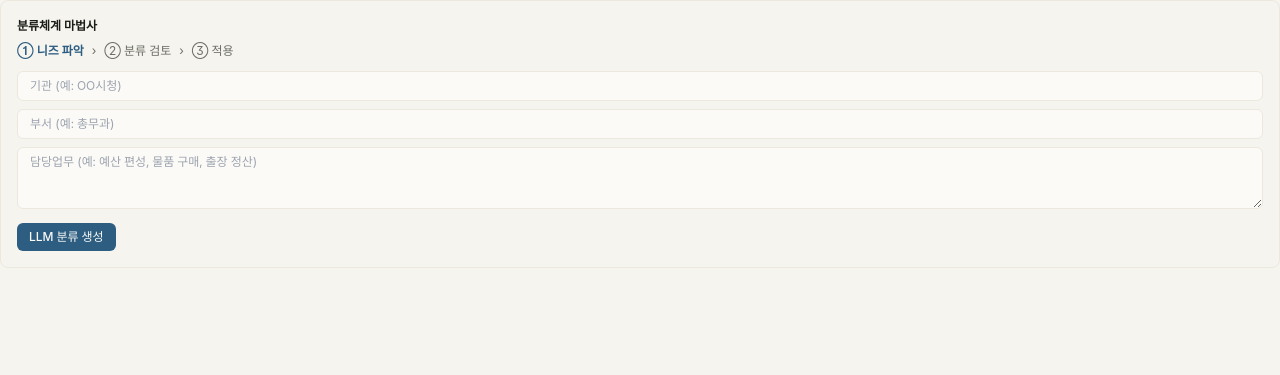
Test: TaxonomyWizard — 3단계 진행 › truncated 응답이면 일부 근거 안내 문구를 보인다 (L3)
In the field with placeholder "기관 (예: OO시청)": (640, 86) [17,71,1263,101], type "OO시청"
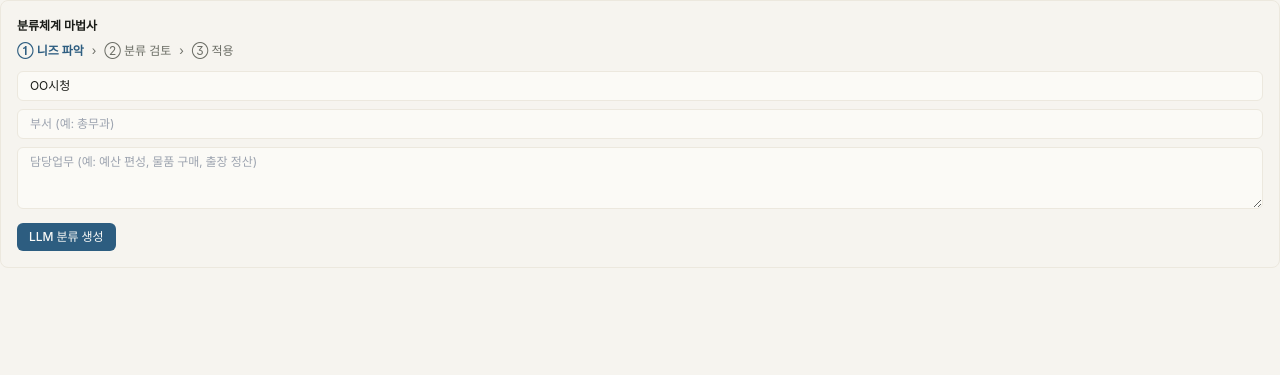
In the field with placeholder "부서 (예: 총무과)": (640, 124) [17,109,1263,139], type "총무과"
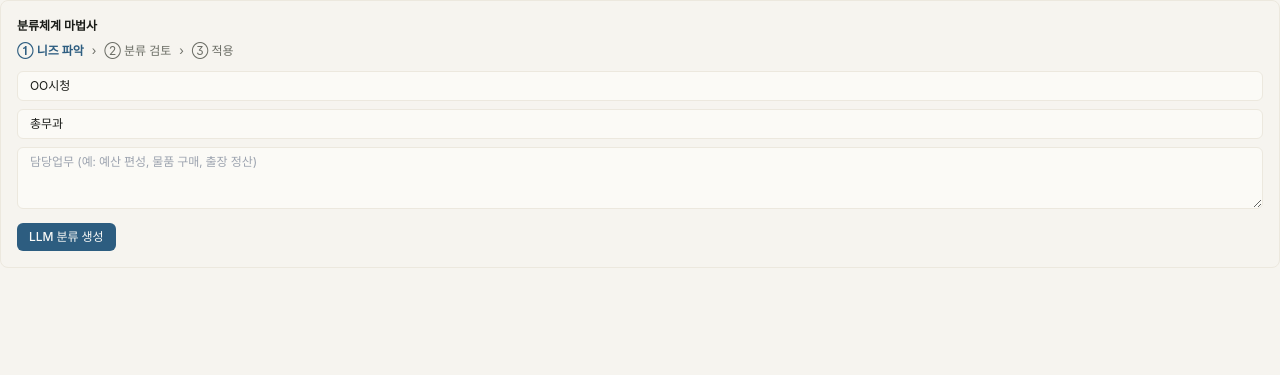
In the text box with placeholder "담당업무 (예: 예산 편성, 물품 구매, 출장 정산)": (640, 178) [17,147,1263,209], type "예산 편성"
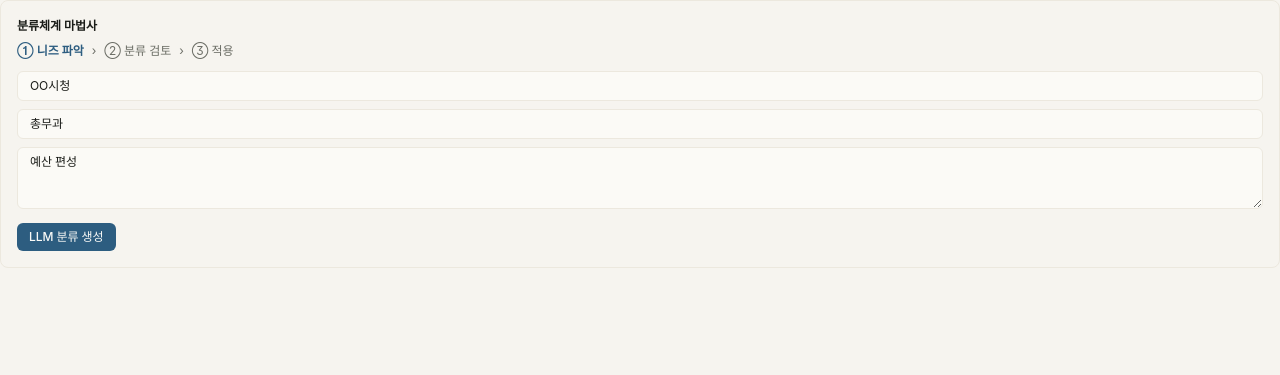
Click the button "LLM 분류 생성": (66, 237) [17,223,116,251]
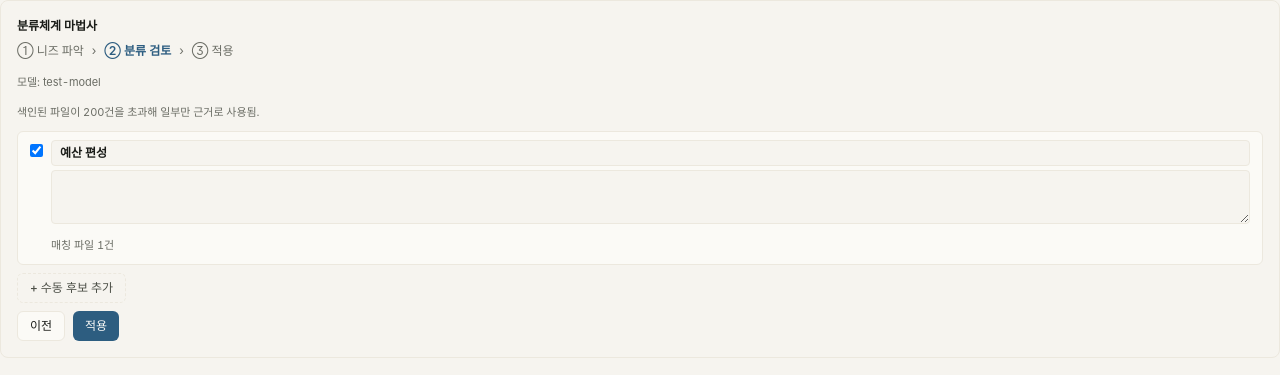
Expected: the text "색인된 파일이 200건을 초과해 일부만 근거로 사용됨." is shown, [17,105,259,119]
